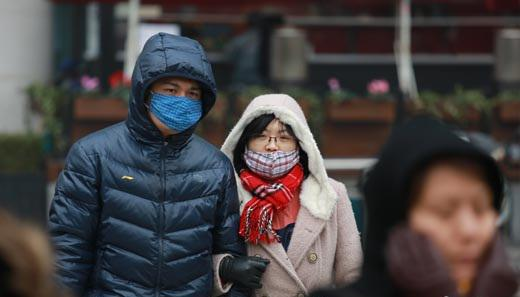NONE: (418, 188, 501, 274)
WRONG: (152, 77, 204, 137), (247, 124, 296, 173)
